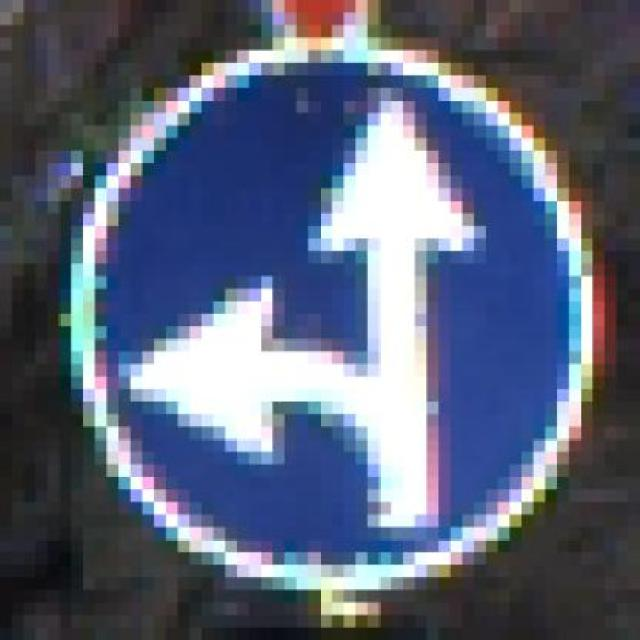Go straight or turn left: (59, 38, 628, 590)
